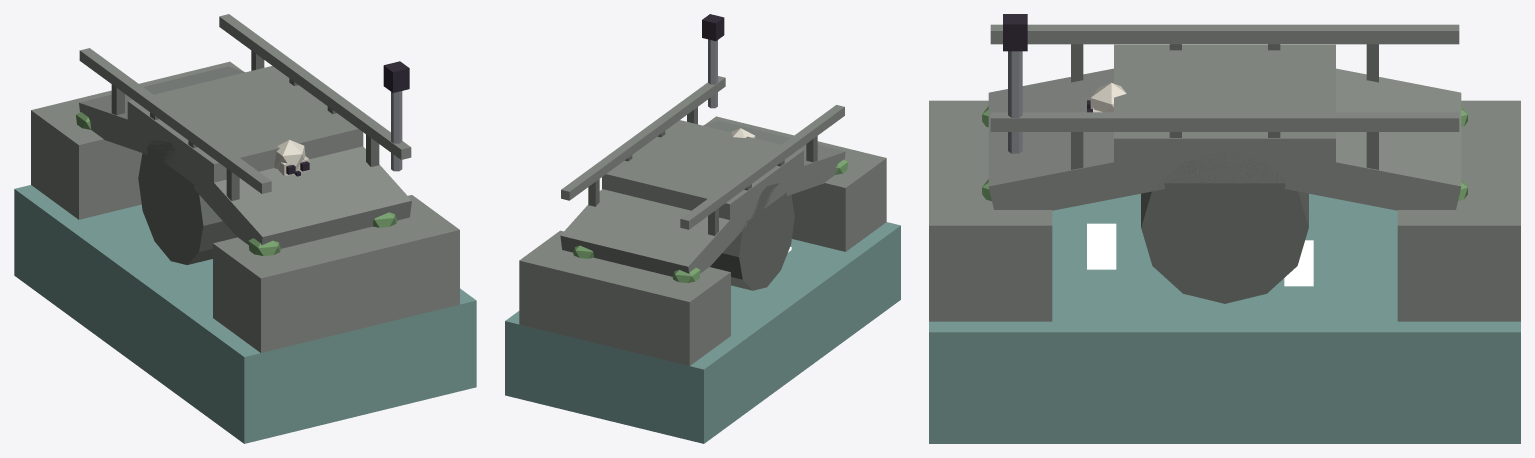
The model's file is canal_bridge.fbx.
3 renders of one model, left to right at view 1: azimuth 30°, elevation 25°; view 2: azimuth 150°, elevation 25°; view 3: azimuth 270°, elevation 25°, orthographic. The views are drawn at different scales.
Visible parts, largest first — view 1: canal_bridge; view 2: canal_bridge; view 3: canal_bridge.
Boxes of the visible parts, x1,y1,x2,y2 form: canal_bridge: (14, 14, 476, 443); canal_bridge: (505, 14, 900, 443); canal_bridge: (929, 14, 1520, 443).
Bounding box in the file's own units: 140 × 177 × 240.
